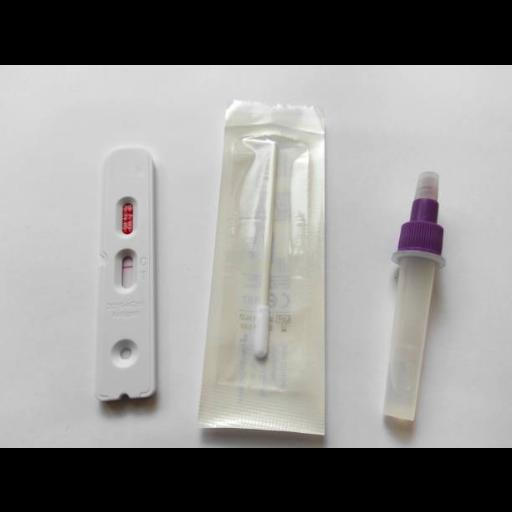Neg: (100, 148, 152, 396)
